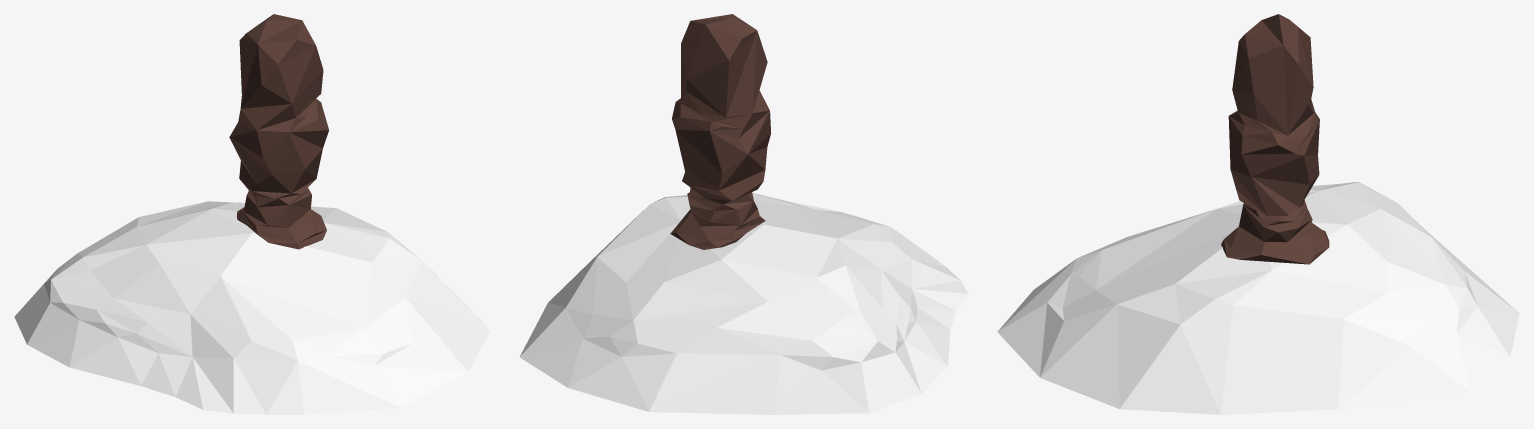
Rendered from snow_rock_007.fbx.
3 renders of one model, left to right at view 1: azimuth 30°, elevation 25°; view 2: azimuth 150°, elevation 25°; view 3: azimuth 270°, elevation 25°, orthographic. The views are drawn at different scales.
Parts seen in each view (by area): view 1: snow_rock_007; view 2: snow_rock_007; view 3: snow_rock_007.
Boxes of the visible parts, x1,y1,x2,y2 form: snow_rock_007: [14, 14, 490, 414]; snow_rock_007: [519, 14, 968, 414]; snow_rock_007: [997, 14, 1519, 414].
Bounding box in the file's own units: 1021 × 1146 × 765.
